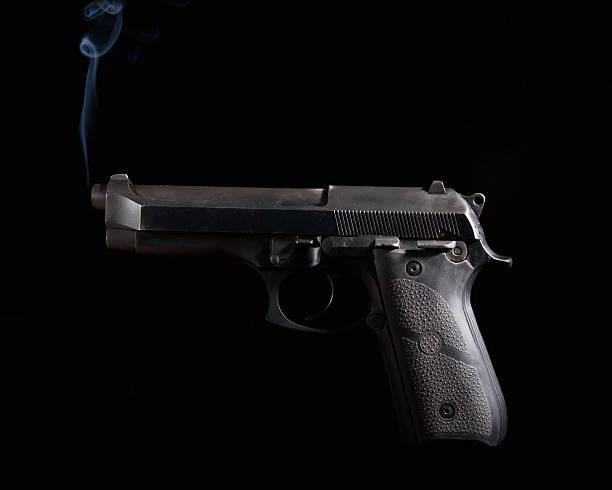weapon: (81, 170, 517, 452)
